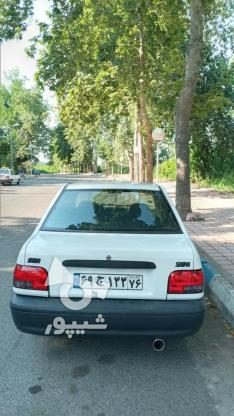car: (73, 272, 143, 291)
